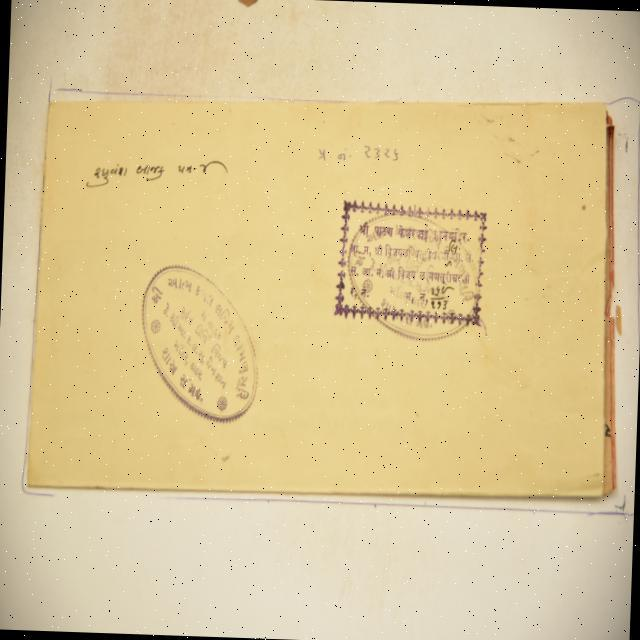text_paragraph: (28, 98, 610, 492)
